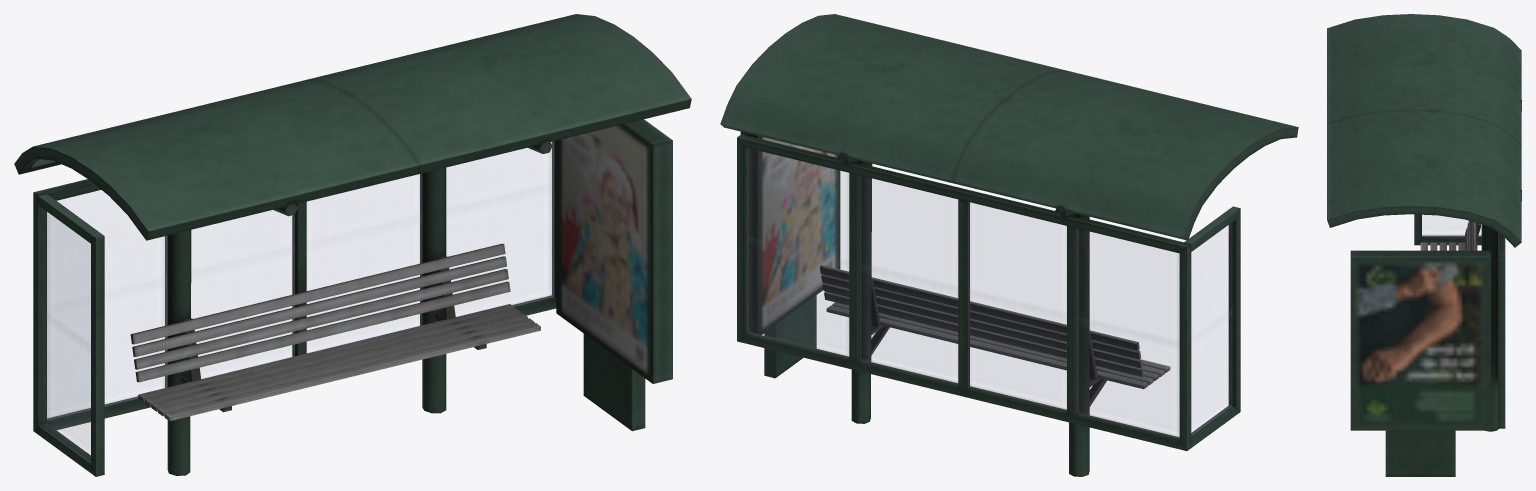
File: bus_shelter.glb
3 views of the same model, side by side, from view 1: azimuth 30°, elevation 25°; view 2: azimuth 150°, elevation 25°; view 3: azimuth 270°, elevation 25° (orthographic). The views are drawn at different scales.
Parts seen in each view (by area): view 1: bus_shelter02, bus_shelter_window; view 2: bus_shelter02, bus_shelter_window; view 3: bus_shelter02, bus_shelter_window.
Boxes of the visible parts, left/top/right/bottom form: bus_shelter02: left=14, top=14, right=691, bottom=476; bus_shelter_window: left=43, top=141, right=554, bottom=459; bus_shelter02: left=720, top=14, right=1298, bottom=476; bus_shelter_window: left=746, top=148, right=1232, bottom=438; bus_shelter02: left=1327, top=14, right=1521, bottom=476; bus_shelter_window: left=1422, top=215, right=1481, bottom=236.
Size of the model in its own units: 2 by 1.33 by 0.8569.
Materials: 1 (1 with a texture image).
